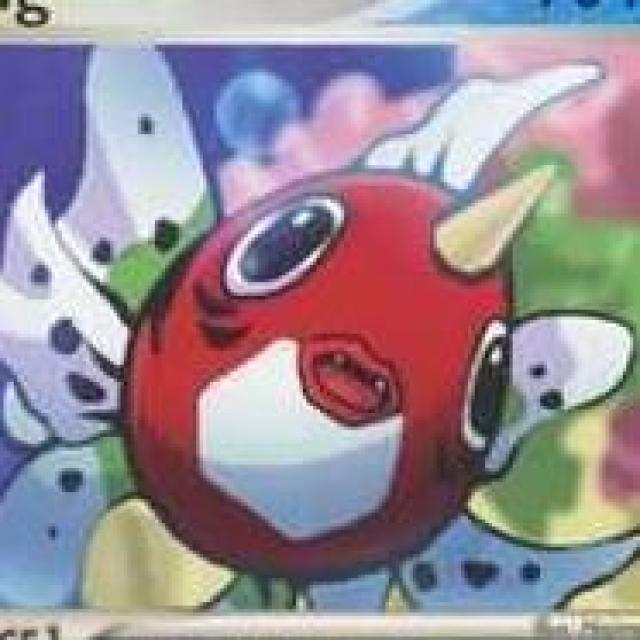Seaking: (85, 139, 562, 588)
